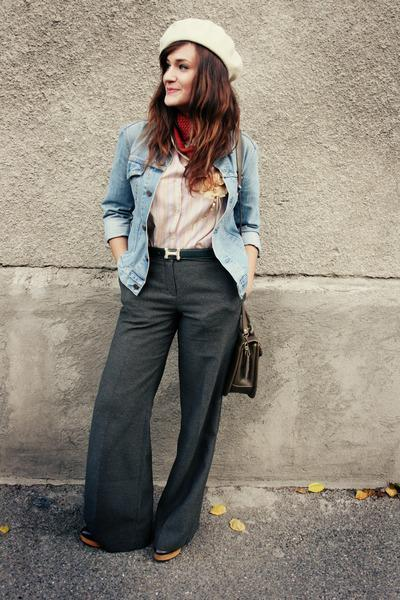bag: (228, 312, 268, 397)
hat: (159, 18, 242, 68)
jacket: (99, 132, 270, 295)
pants: (70, 259, 251, 562)
shirt: (154, 149, 228, 262)
